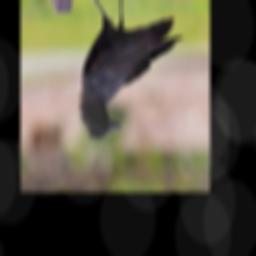Crow: (78, 0, 184, 140)
